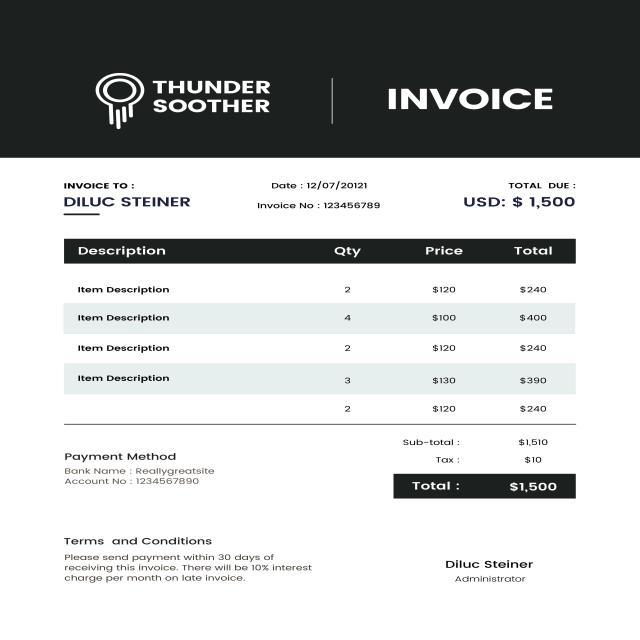ROI: (65, 239, 573, 423), (58, 530, 317, 591), (393, 429, 567, 497), (57, 447, 220, 494), (382, 78, 559, 119), (148, 73, 277, 120), (60, 178, 193, 210), (254, 179, 384, 211), (459, 178, 581, 212), (438, 554, 541, 588)
